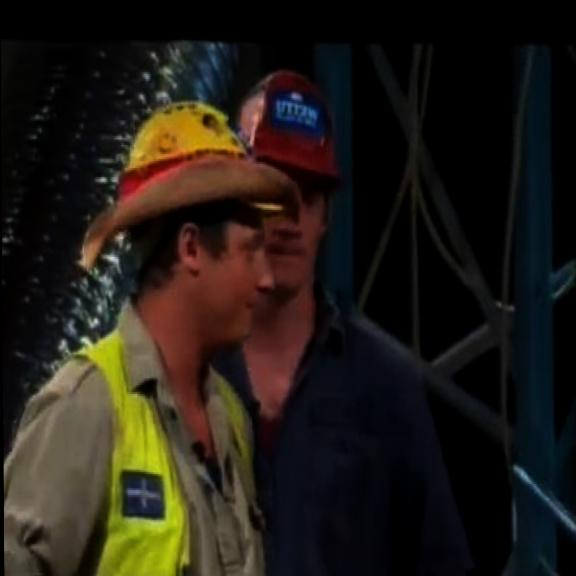safety_vest: (64, 320, 252, 576)
